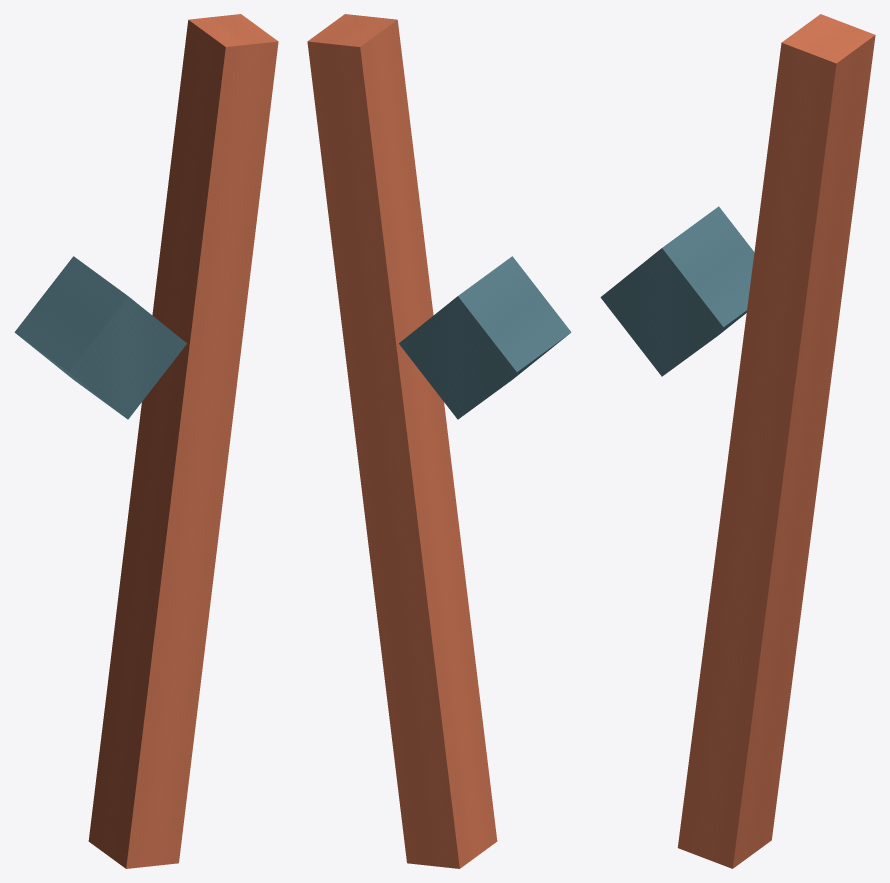
Rendered from atlas100-s047-a05.lod2.glb.
3 renders of one model, left to right at view 1: azimuth 30°, elevation 25°; view 2: azimuth 150°, elevation 25°; view 3: azimuth 330°, elevation 25°, orthographic. The views are drawn at different scales.
Parts seen in each view (by area): view 1: atlas100-s047-a05:part-001, atlas100-s047-a05:part-002; view 2: atlas100-s047-a05:part-001, atlas100-s047-a05:part-002; view 3: atlas100-s047-a05:part-001, atlas100-s047-a05:part-002.
Boxes of the visible parts, x1,y1,x2,y2 form: atlas100-s047-a05:part-001: [88, 14, 278, 868]; atlas100-s047-a05:part-002: [14, 256, 186, 419]; atlas100-s047-a05:part-001: [307, 14, 497, 868]; atlas100-s047-a05:part-002: [399, 256, 571, 419]; atlas100-s047-a05:part-001: [677, 14, 875, 868]; atlas100-s047-a05:part-002: [600, 206, 754, 376].
Bounding box in the file's own units: 0.2014 × 0.7102 × 0.0874.
2 materials, 2 textured.
